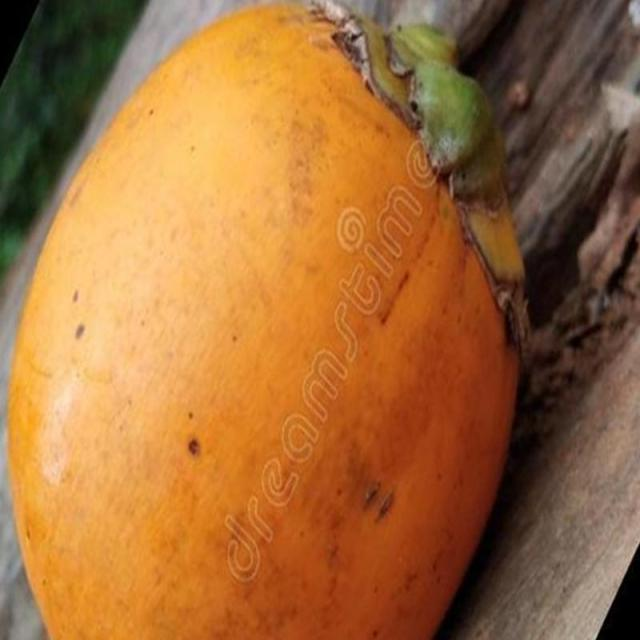good: (3, 0, 523, 639)
